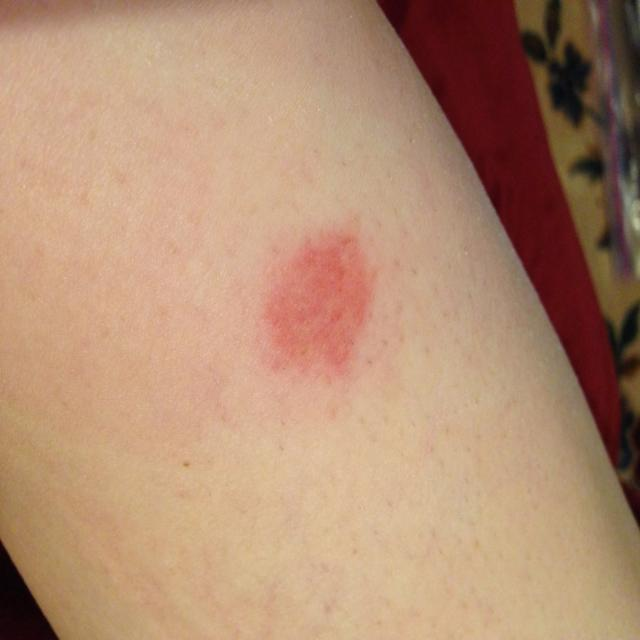kene: (251, 212, 385, 396)
